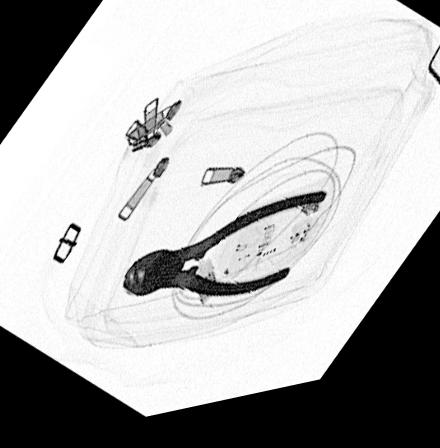Pliers: (115, 202, 331, 312)
